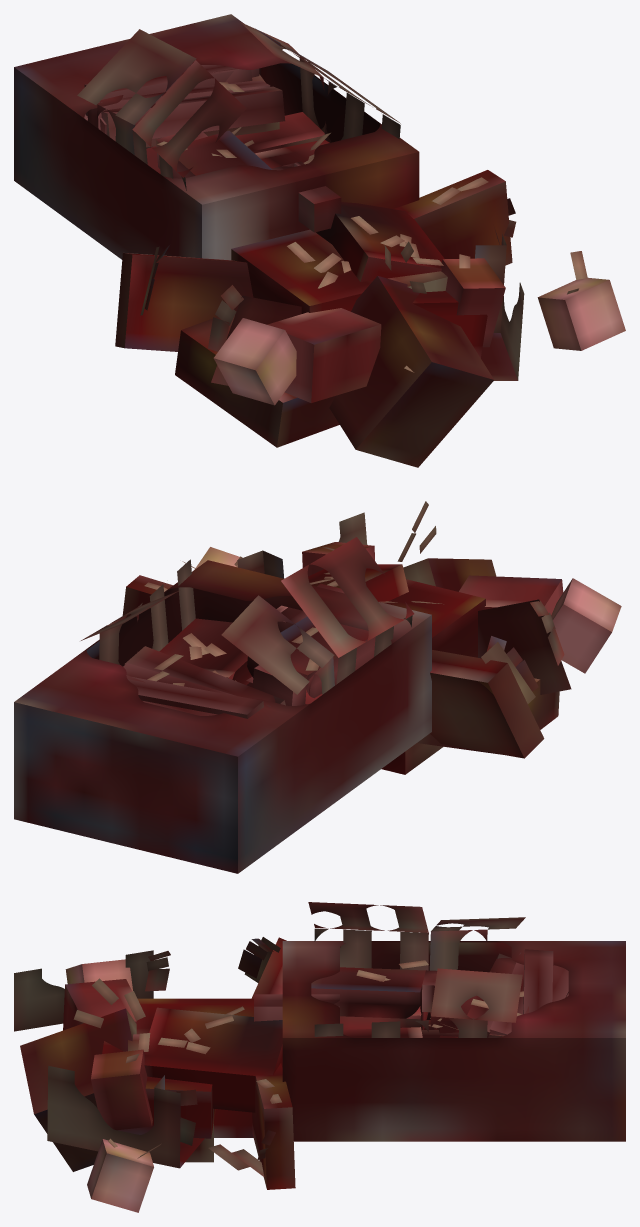
The model's file is lying_2_torso.obj.
3 views of the same model, one above another, from view 1: azimuth 30°, elevation 25°; view 2: azimuth 150°, elevation 25°; view 3: azimuth 270°, elevation 25° (orthographic). The views are drawn at different scales.
Parts seen in each view (by area): view 1: Body; view 2: Body; view 3: Body.
Part boxes in pixels (x1=…): Body: x1=14, y1=14, x2=625, y2=467; Body: x1=14, y1=501, x2=621, y2=873; Body: x1=14, y1=902, x2=625, y2=1212.
Size of the model in its own units: 0.9489 by 0.6481 by 1.34.
